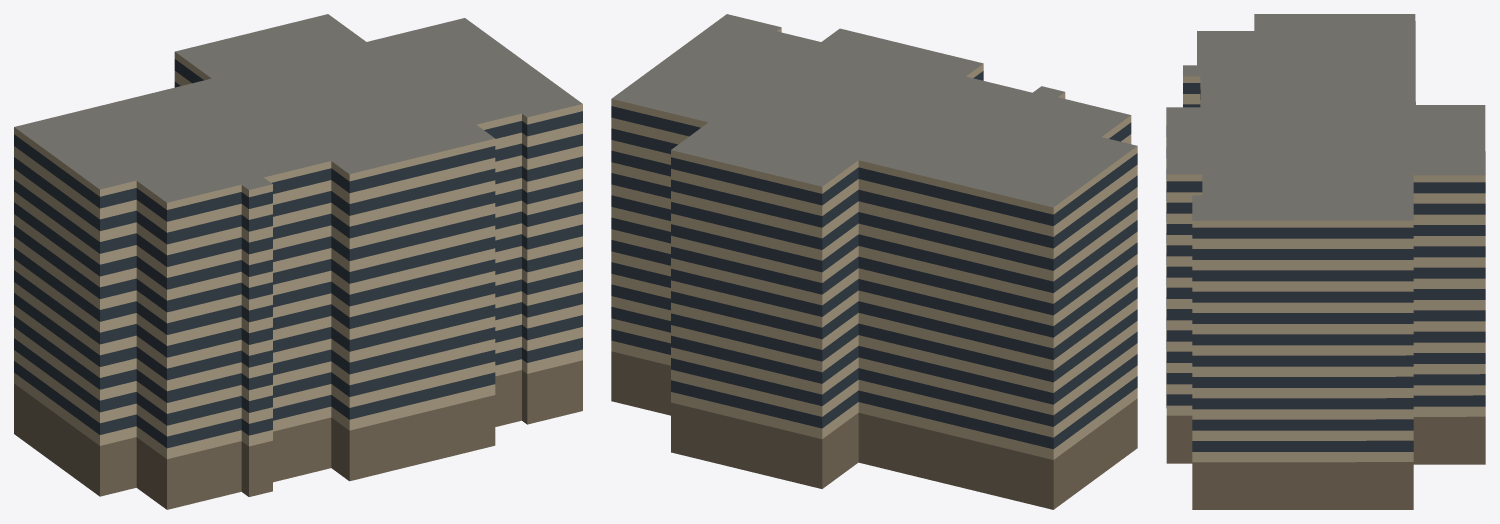
Rendered from holiday_inn_express_downtown.glb.
The picture shows the model from 3 angles, left to right: view 1: azimuth 30°, elevation 25°; view 2: azimuth 150°, elevation 25°; view 3: azimuth 270°, elevation 25°; orthographic projection. The views are drawn at different scales.
Parts seen in each view (by area): view 1: Holiday_Inn_Express_Downtown; view 2: Holiday_Inn_Express_Downtown; view 3: Holiday_Inn_Express_Downtown.
Boxes of the visible parts, bbox=[...] form: Holiday_Inn_Express_Downtown: bbox=[14, 14, 582, 509]; Holiday_Inn_Express_Downtown: bbox=[611, 14, 1137, 509]; Holiday_Inn_Express_Downtown: bbox=[1166, 14, 1485, 509].
Bounding box in the file's own units: 65.04 × 42.4 × 42.42.
